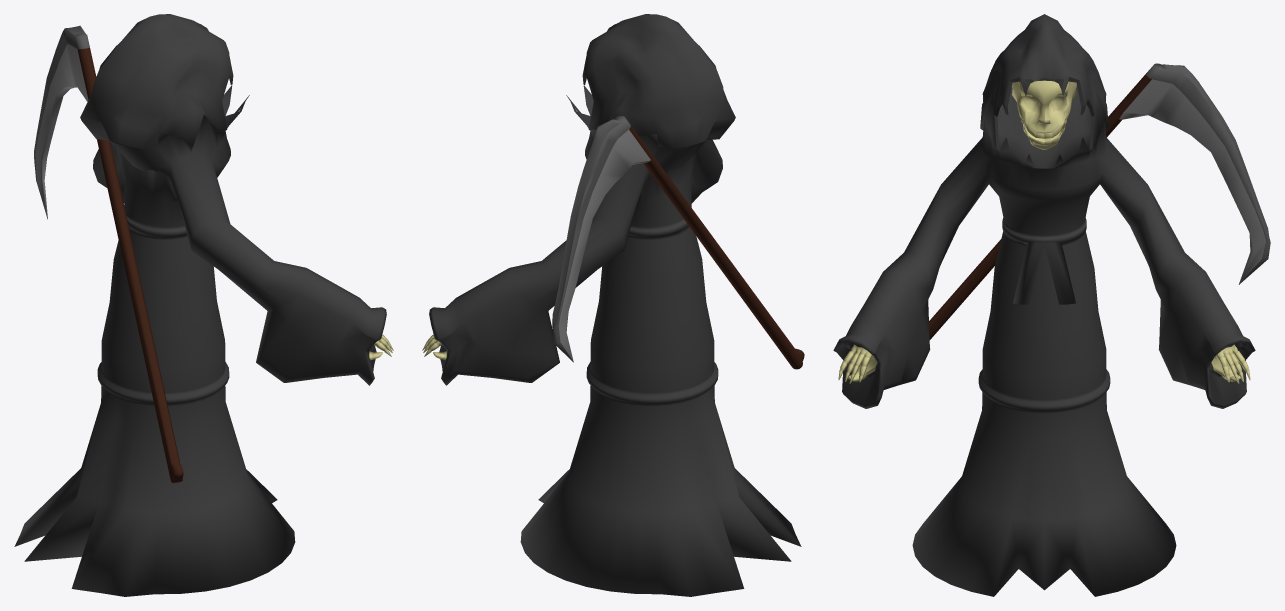
The model's file is reaperwithscythe4.fbx.
3 views of the same model, side by side, from view 1: azimuth 30°, elevation 25°; view 2: azimuth 150°, elevation 25°; view 3: azimuth 270°, elevation 25° (orthographic).
Visible parts, largest first — view 1: Body.001, Scythe.001; view 2: Body.001, Scythe.001; view 3: Body.001, Scythe.001, Head.001.
Boxes of the visible parts, x1,y1,x2,y2 form: Body.001: (14, 14, 393, 596); Scythe.001: (34, 25, 183, 483); Body.001: (422, 14, 801, 596); Scythe.001: (552, 116, 804, 369); Body.001: (833, 14, 1255, 596); Scythe.001: (929, 63, 1270, 339); Head.001: (1011, 80, 1076, 149).
Bounding box in the file's own units: 196 × 360 × 272.
